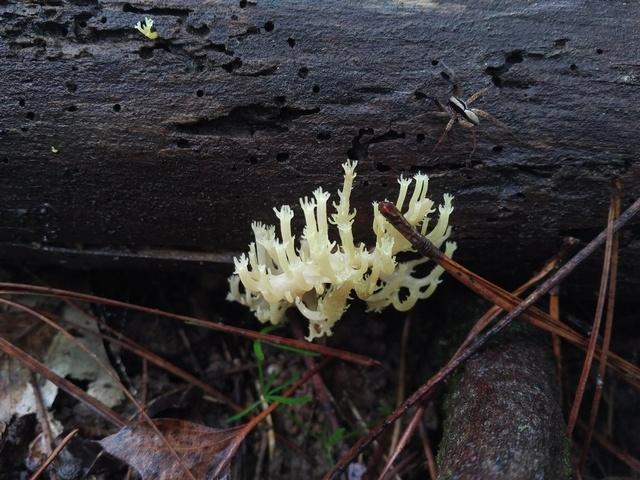Edible Mushroom: (225, 157, 456, 342), (133, 16, 158, 39)
